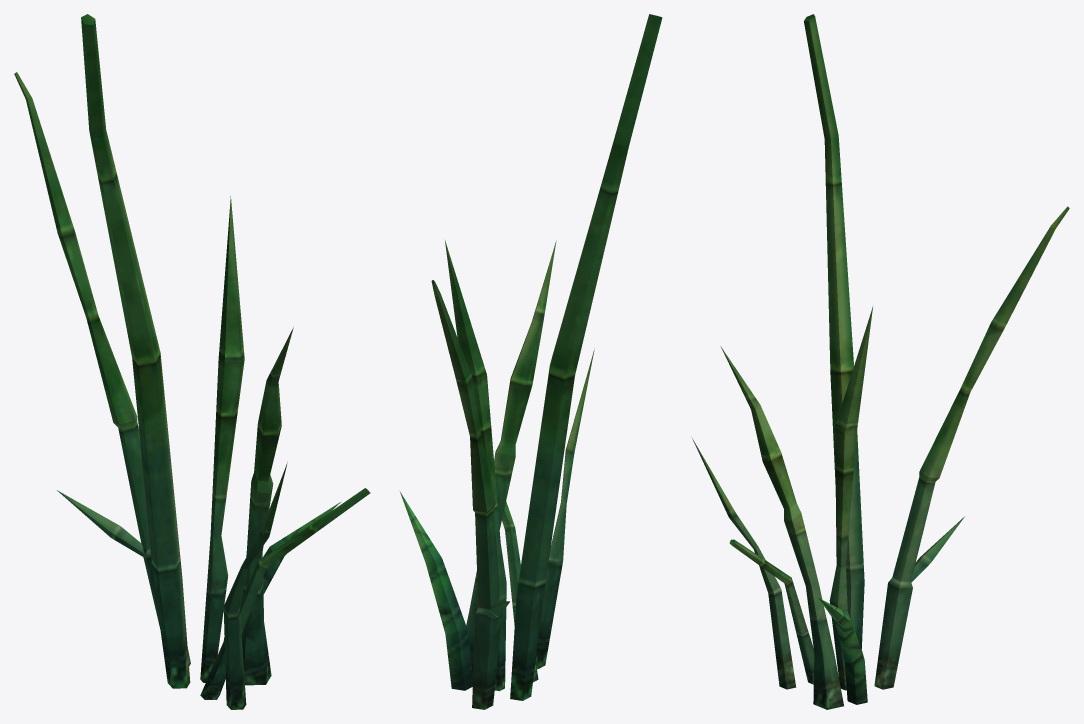
The model's file is Area_06_14.fbx.
3 renders of one model, left to right at view 1: azimuth 30°, elevation 25°; view 2: azimuth 150°, elevation 25°; view 3: azimuth 270°, elevation 25°, orthographic. The views are drawn at different scales.
Visible parts, largest first — view 1: Area_06_14; view 2: Area_06_14; view 3: Area_06_14.
Part boxes in pixels (x1=…): Area_06_14: x1=14, y1=14, x2=370, y2=709; Area_06_14: x1=400, y1=14, x2=662, y2=709; Area_06_14: x1=692, y1=14, x2=1069, y2=709.
Size of the model in its own units: 1075 by 2777 by 1553.
